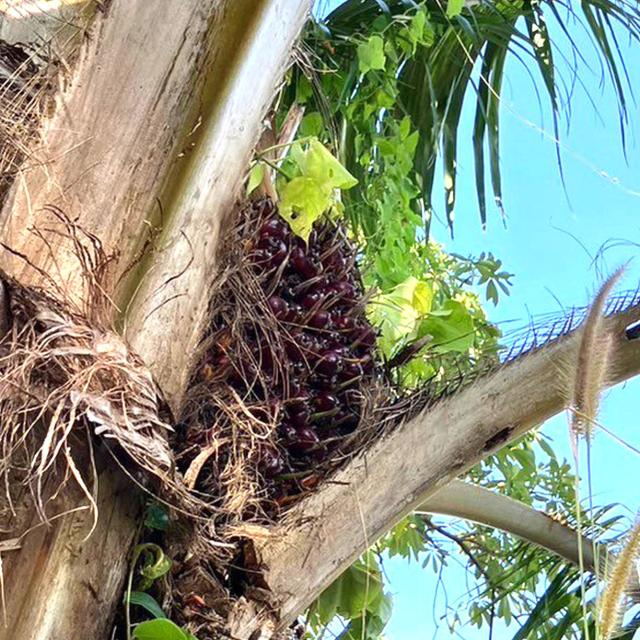ripe: (187, 193, 397, 511)
